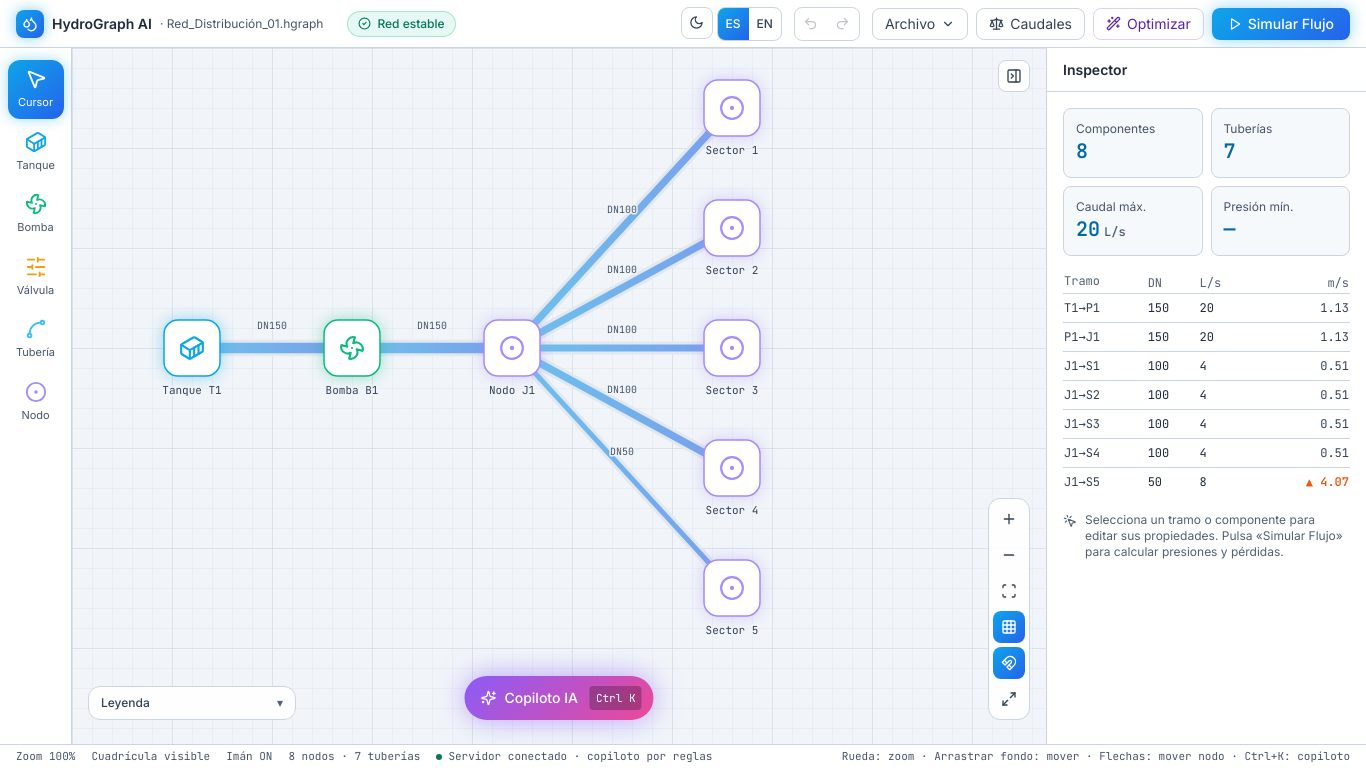
it: App › «Nueva red de ejemplo» restaura la demo y se puede deshacer
The image size is (1366, 768).
Click the button "Archivo".
click(920, 24)  # box [872,8,968,40]
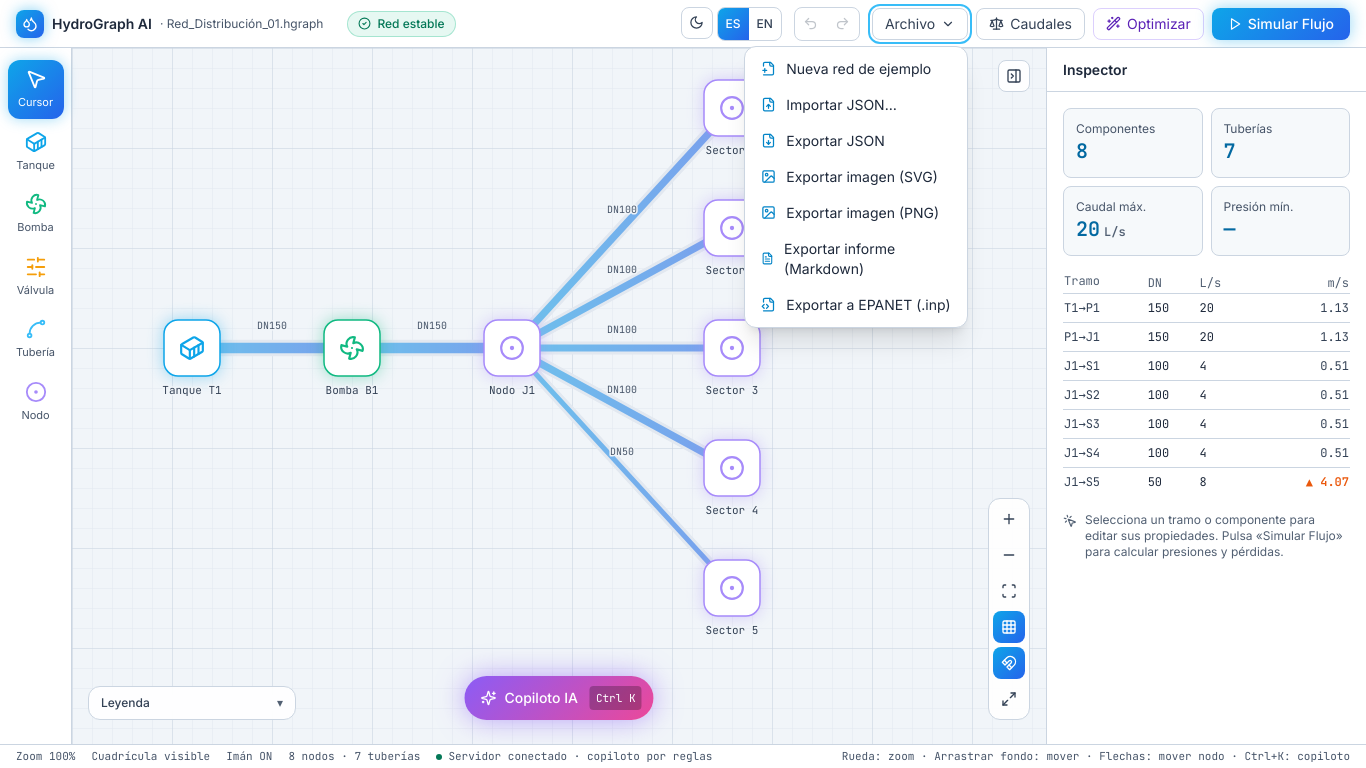
Click the menu item "Nueva red de ejemplo".
click(856, 68)  # box [749,50,963,86]
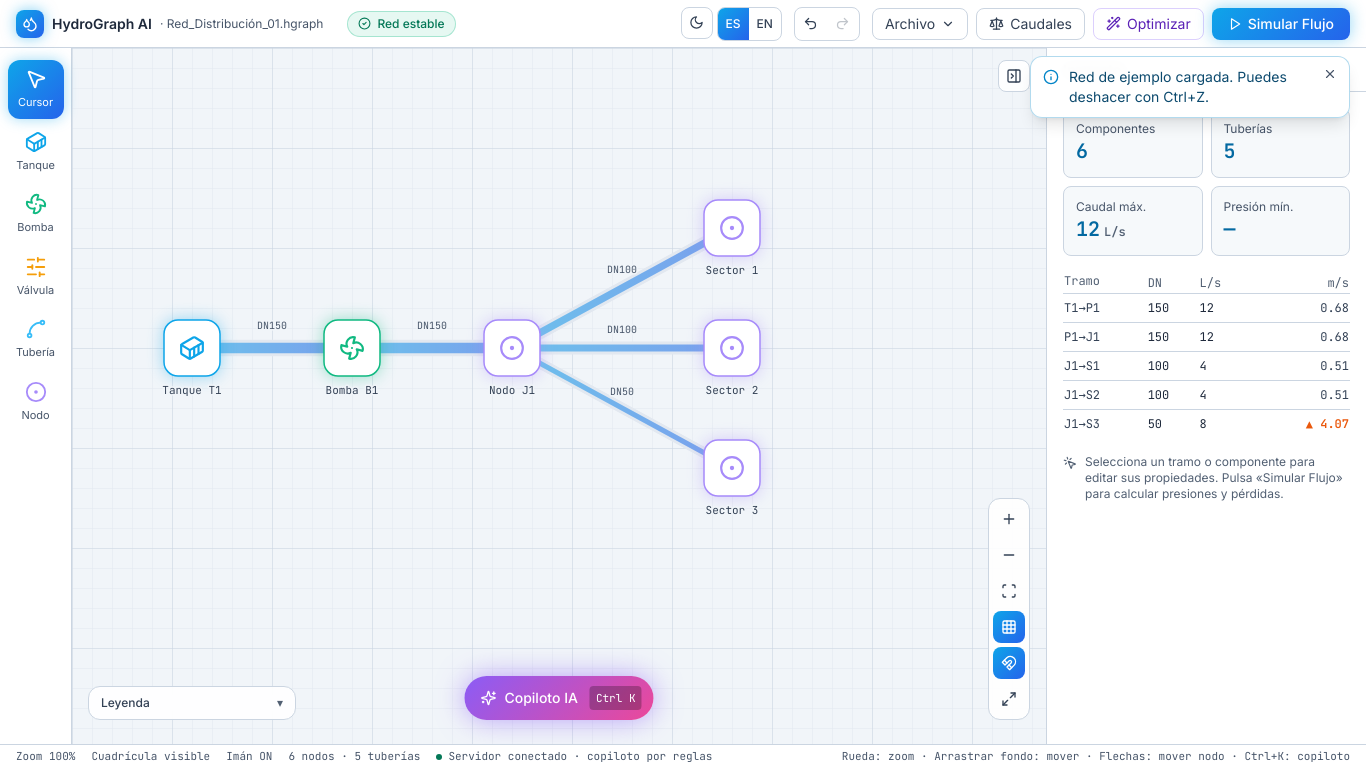
expect the text "6 nodos · 5 tuberías" is shown: met, box [288,748,420,765]
Press z
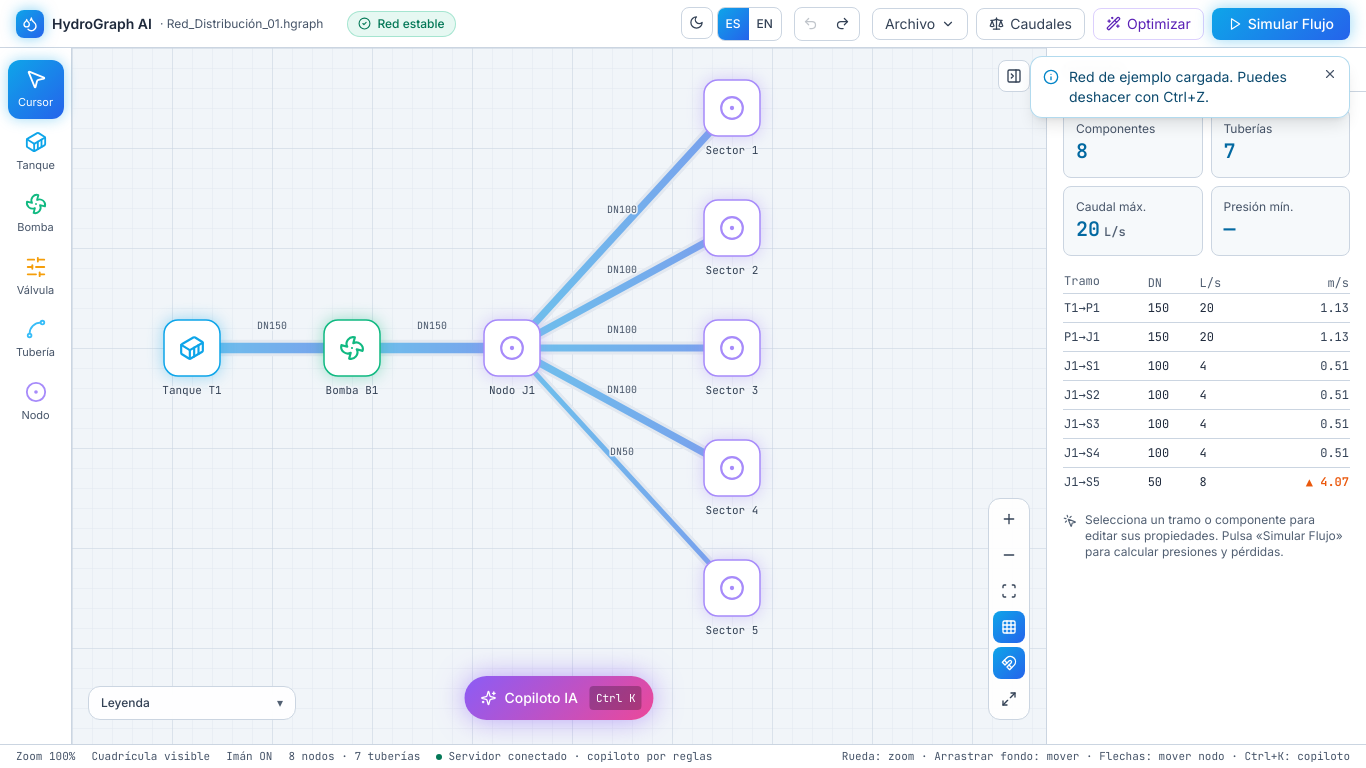
expect the text "8 nodos · 7 tuberías" is shown: met, box [288,748,420,765]
